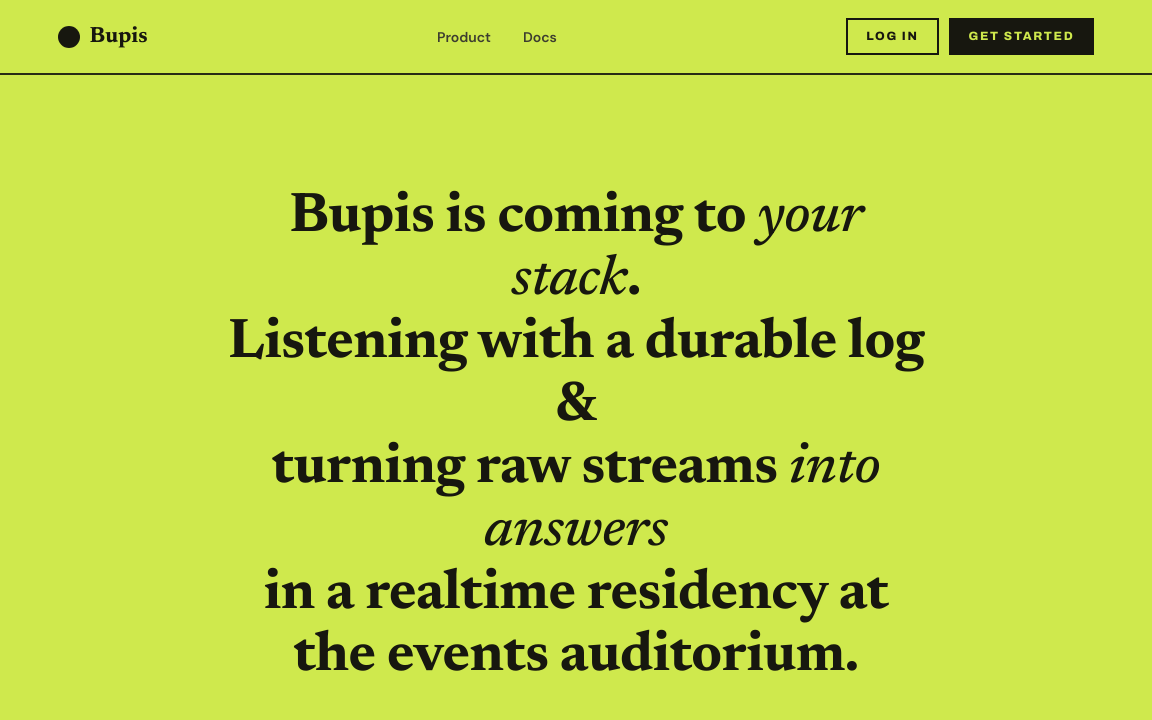
App › navigates to the login page via the nav bar link
The width and height of the screenshot is (1152, 720).
Step 1. Click the link "Log in" → [892, 37], box [846, 18, 939, 55]
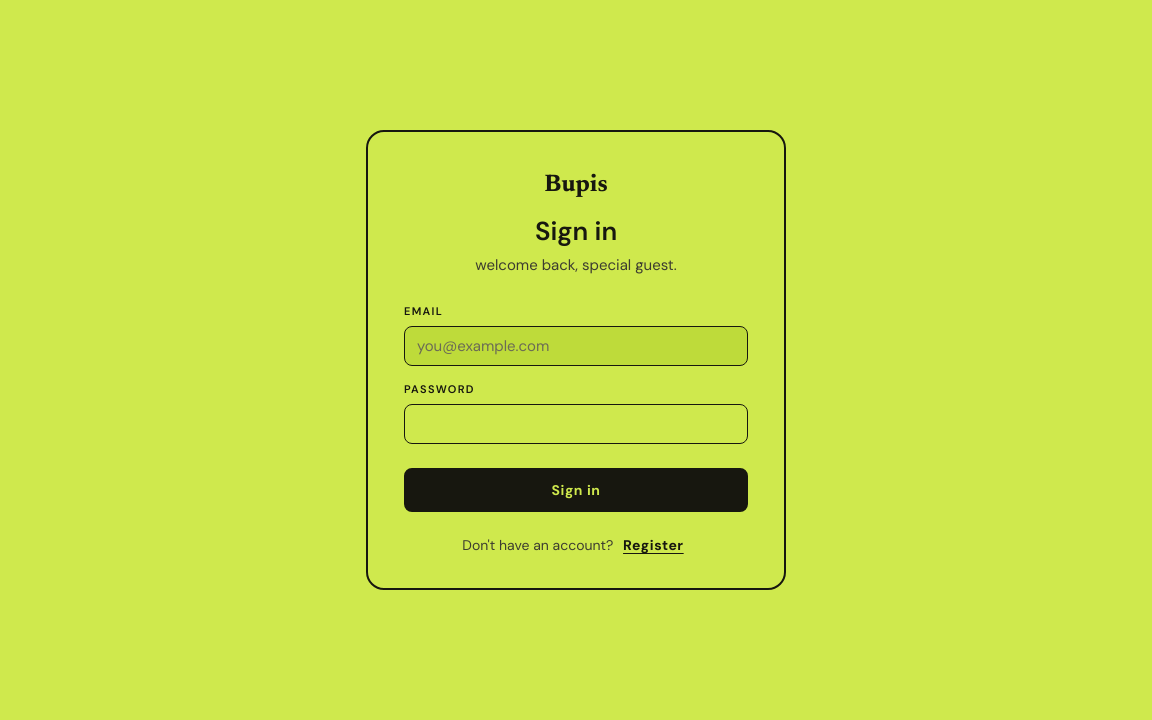
Expected: the heading "Sign in" is shown, [535, 214, 617, 248]
